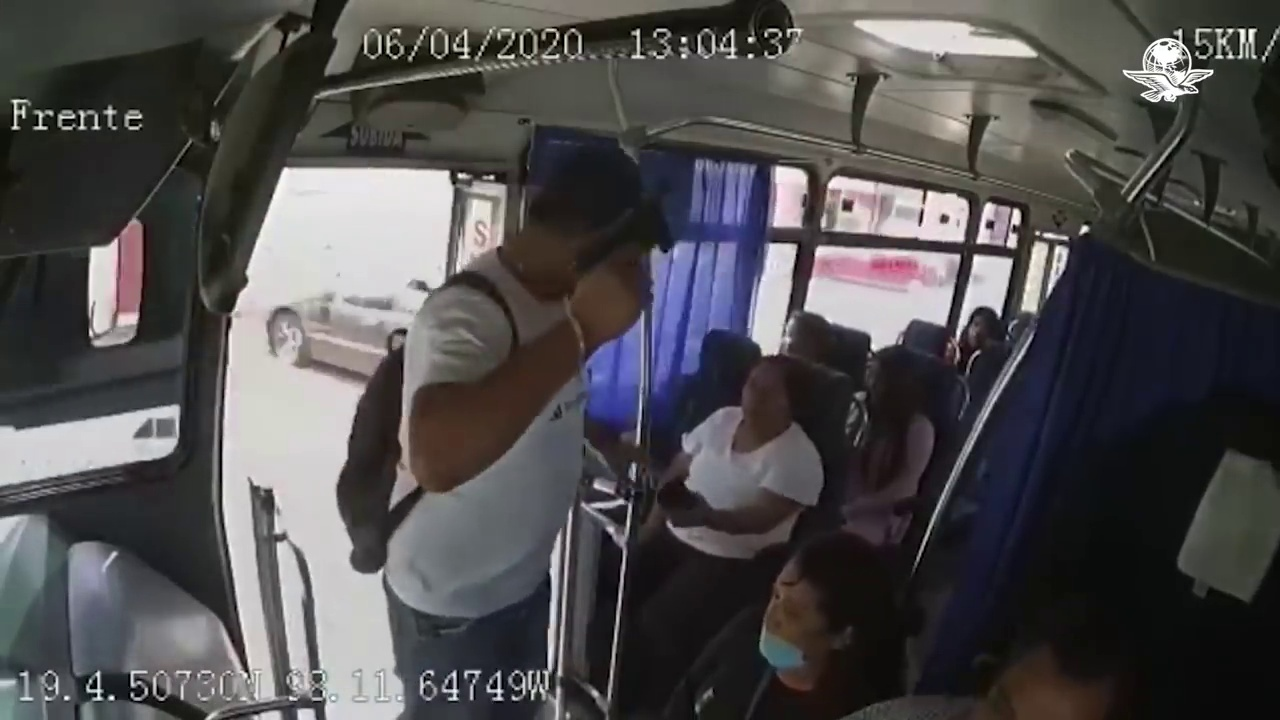pistol: (572, 177, 680, 280)
